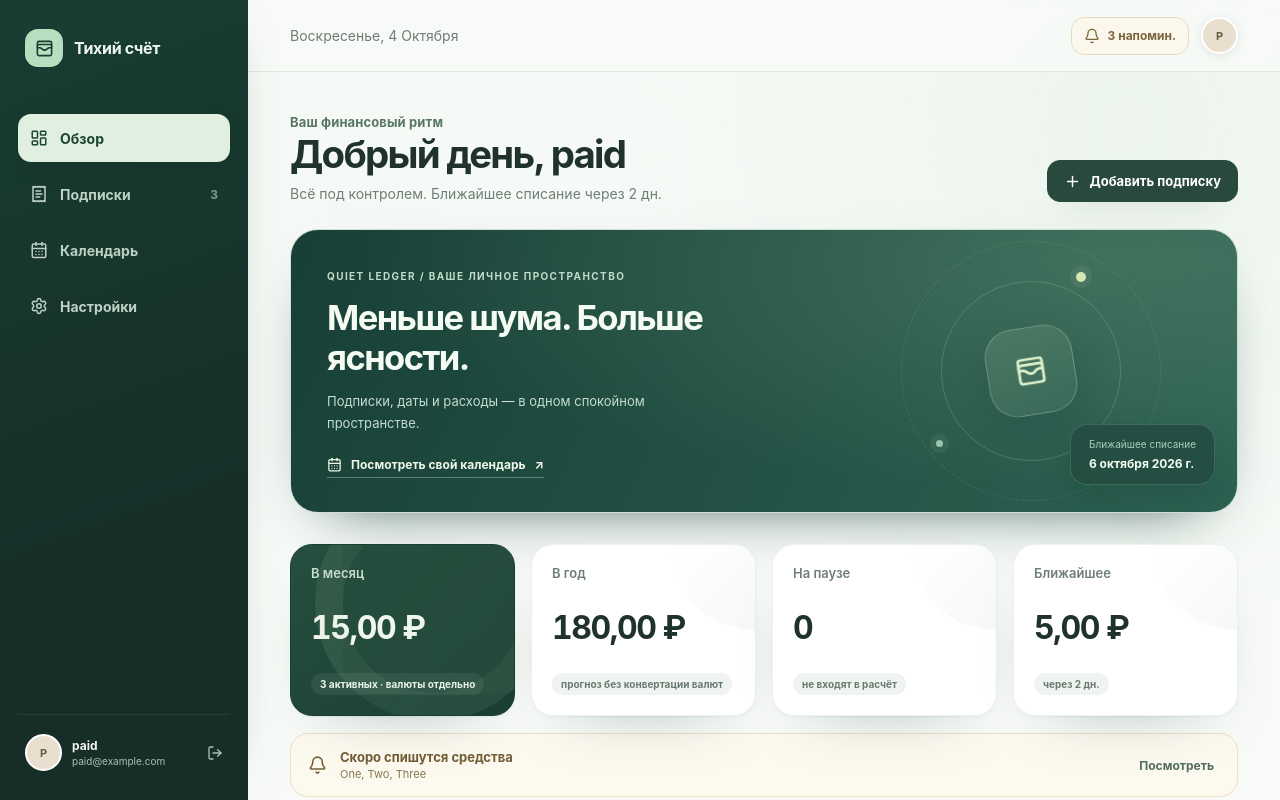
paid token claim removes the client-side creation limit
This screenshot has width=1280, height=800.
Check: the button "Добавить подписку" is enabled, box top-left (1047, 160), bottom-right (1238, 202)
Click the button "Настройки": (124, 306) top-left (18, 282), bottom-right (230, 330)
(page scrolled)
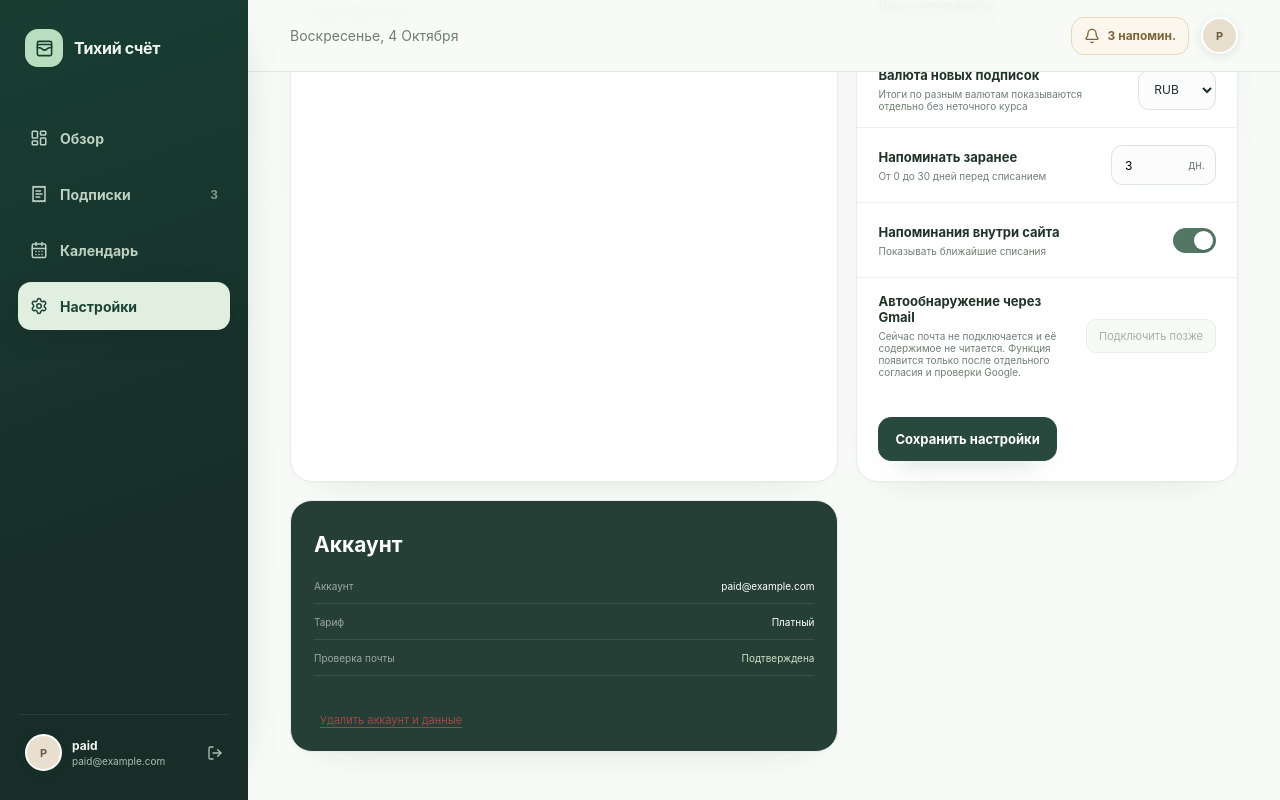
Check: the text "Платный" is shown, box top-left (772, 616), bottom-right (814, 628)
